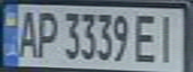3: (60, 8, 81, 61), (96, 10, 115, 62), (78, 9, 96, 61)
9: (112, 10, 133, 63)
A: (12, 7, 42, 60)
E: (133, 10, 163, 64)
I: (154, 10, 184, 64)
P: (33, 7, 60, 60)
